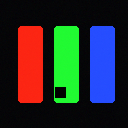1 square: (55, 87, 65, 97)
